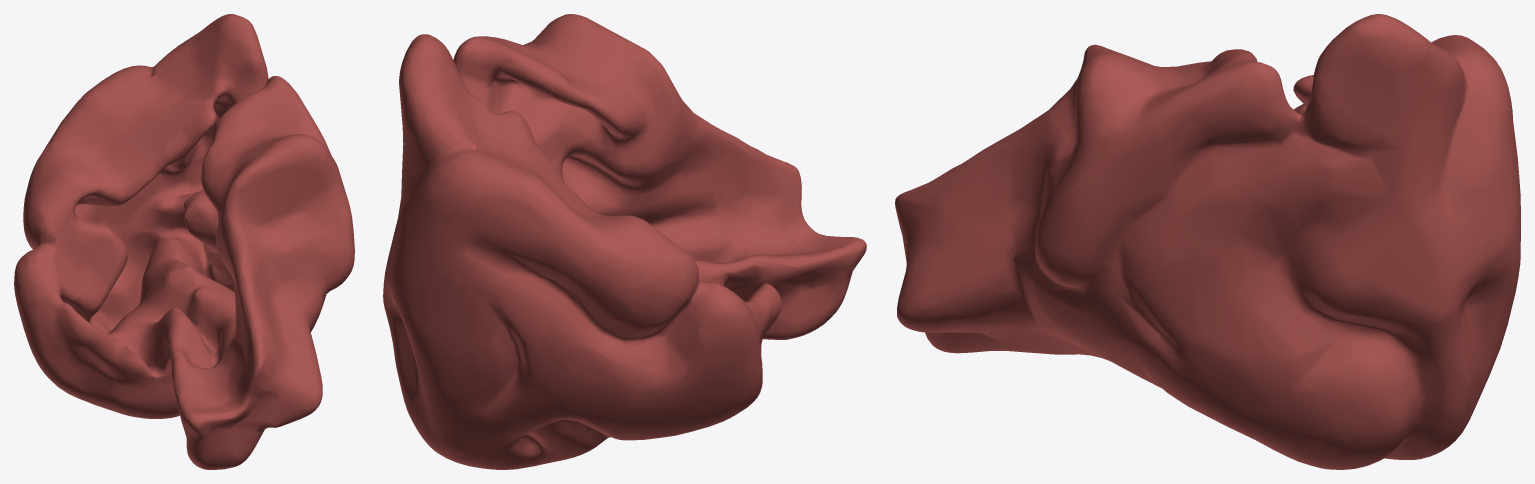
The model's file is FMA72975.glb.
The picture shows the model from 3 angles, left to right: view 1: azimuth 30°, elevation 25°; view 2: azimuth 150°, elevation 25°; view 3: azimuth 270°, elevation 25°; orthographic projection. The views are drawn at different scales.
Visible parts, largest first — view 1: FMA72975; view 2: FMA72975; view 3: FMA72975.
Boxes of the visible parts, box(x1,y1,x2,y2) form: FMA72975: box(14, 14, 354, 469); FMA72975: box(383, 14, 866, 469); FMA72975: box(895, 14, 1520, 469).
Size of the model in its own units: 0.0414 by 0.0514 by 0.06.
